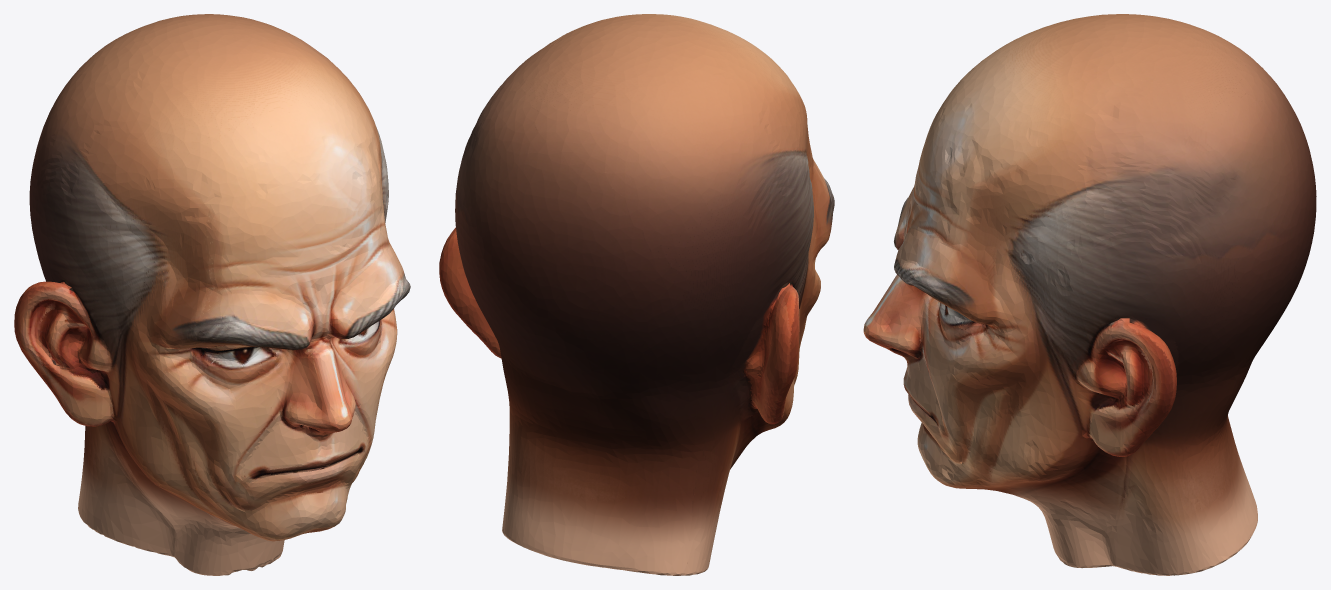
The model's file is side_h_windpriest_repaired_atlas.glb.
3 renders of one model, left to right at view 1: azimuth 30°, elevation 25°; view 2: azimuth 150°, elevation 25°; view 3: azimuth 270°, elevation 25°, orthographic.
Visible parts, largest first — view 1: temp_mesh.ply; view 2: temp_mesh.ply; view 3: temp_mesh.ply.
Part boxes in pixels (x1,y1,x2,y2): temp_mesh.ply: (14, 14, 410, 575); temp_mesh.ply: (439, 14, 834, 575); temp_mesh.ply: (863, 14, 1316, 575).
Size of the model in its own units: 0.9055 by 1.25 by 0.9901.
1 material, 1 textured.
